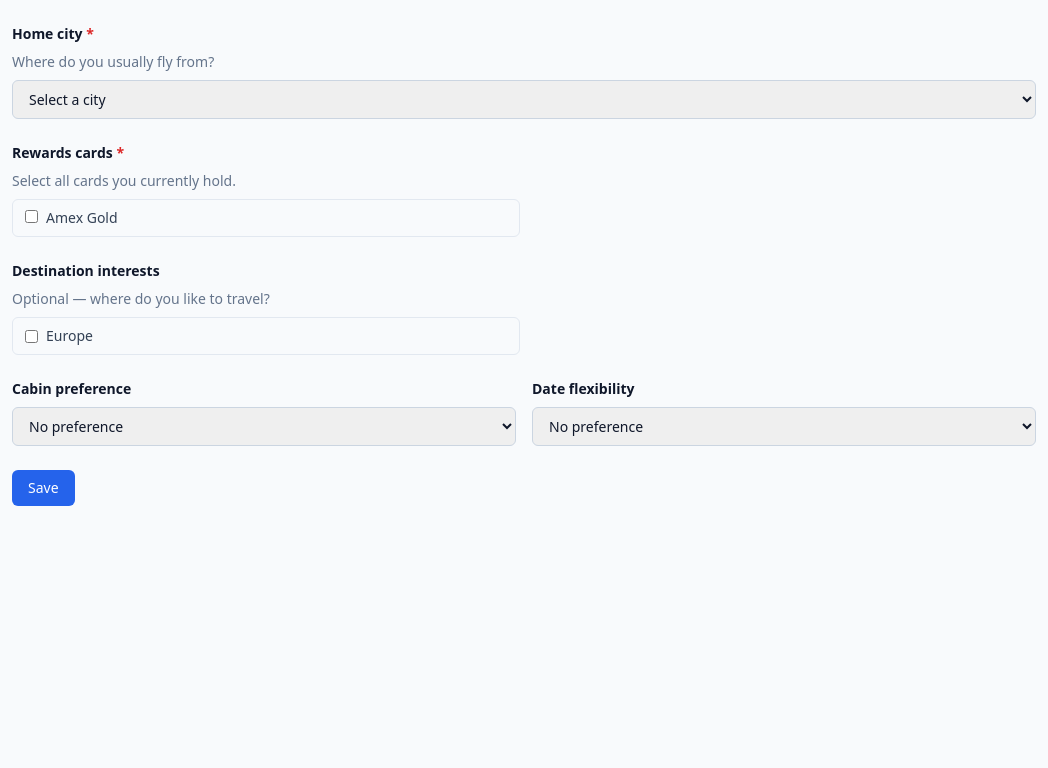
Test: PreferencesForm validation › clears the city error after a city is selected
Step 1. Click the button "Save" → (43, 488), box x1=12 y1=470 x2=75 y2=506
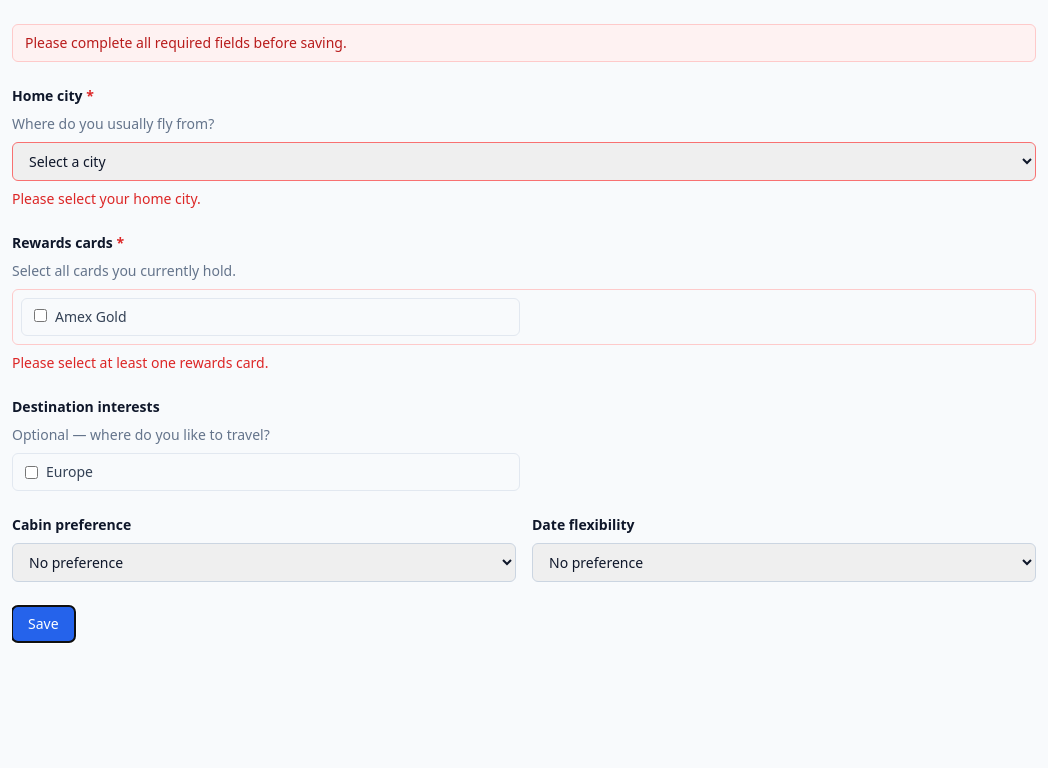
Now the text "Please select your home city." is shown, box x1=12 y1=189 x2=201 y2=208
Step 2. Select "New York" in the dropdown labelled "Home city *" → (524, 162), box x1=12 y1=142 x2=1036 y2=181
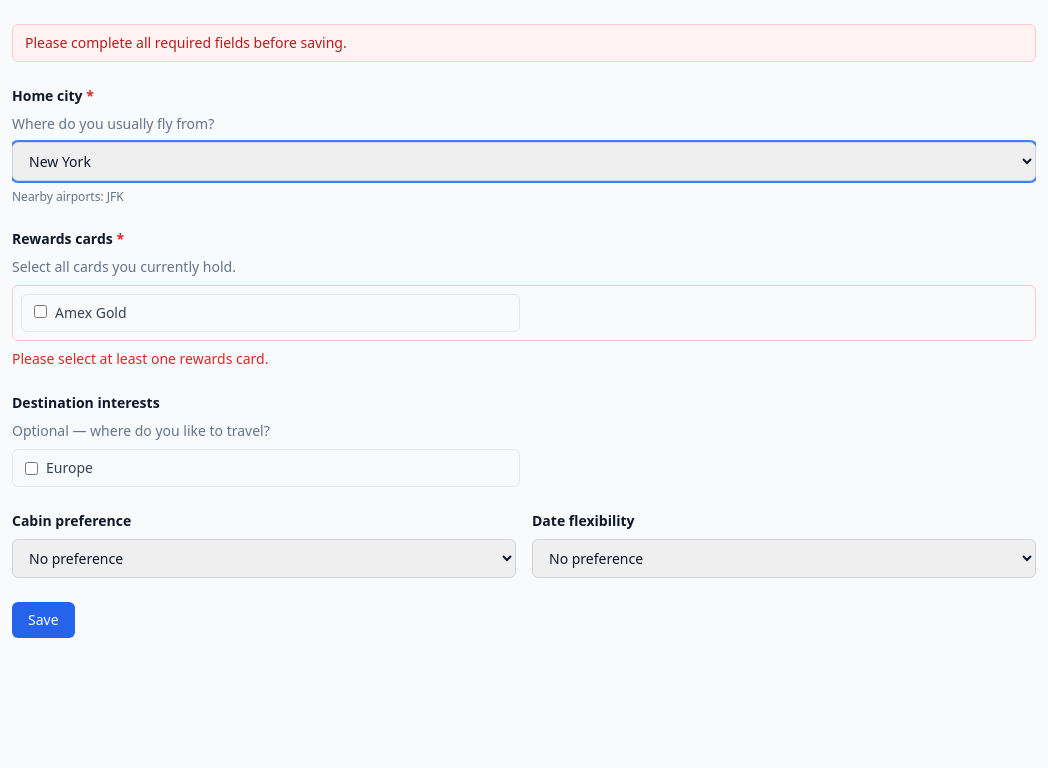
Now the text "Please select your home city." is gone
